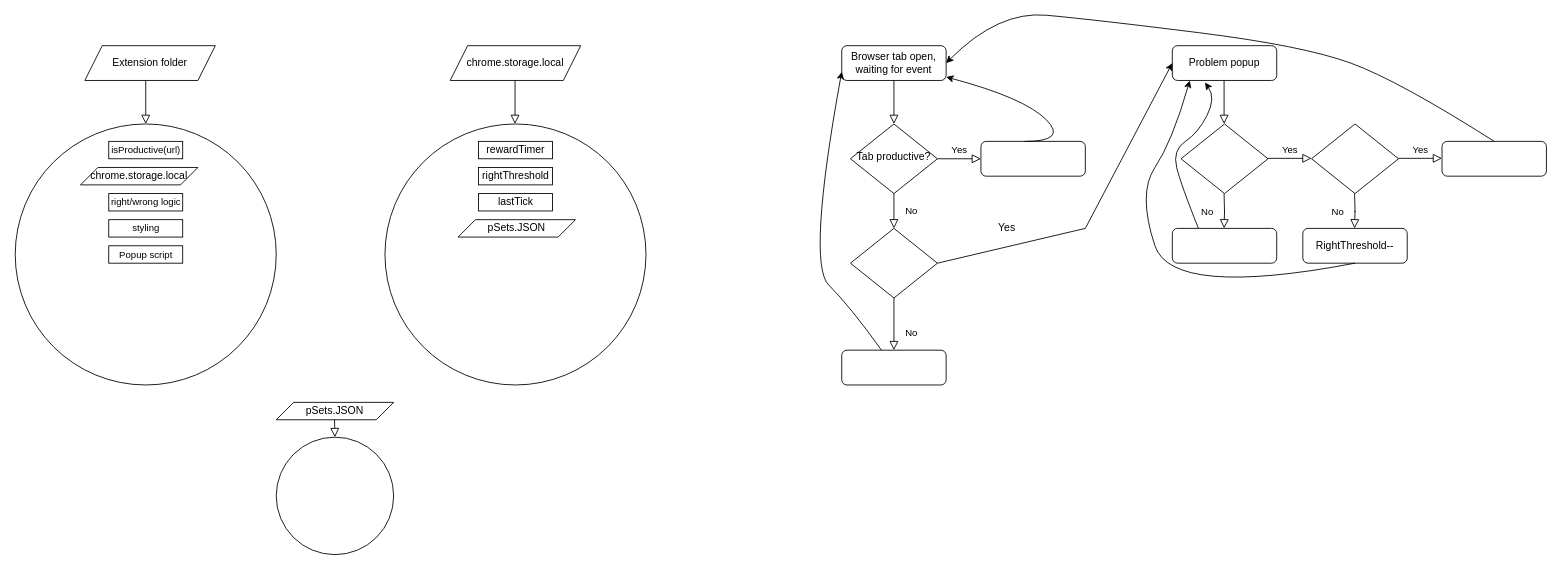
The diagram is 1562 pixels wide and 571 high, and some of its shapes have lost their labels. The shapes that lost their labels are listed below. From the top down, each one's centre as x and y in pixels, then its label:
the point at 1032,158: Reward timer+
the point at 1224,158: Answer right?
the point at 1355,158: RightThreshold 0?
the point at 1493,158: Problem disappear, reward Timer+
the point at 893,263: Reward timer 0?
the point at 1224,245: RightThreshold++
the point at 893,367: Reward timer-
the point at 334,495: problem sets
